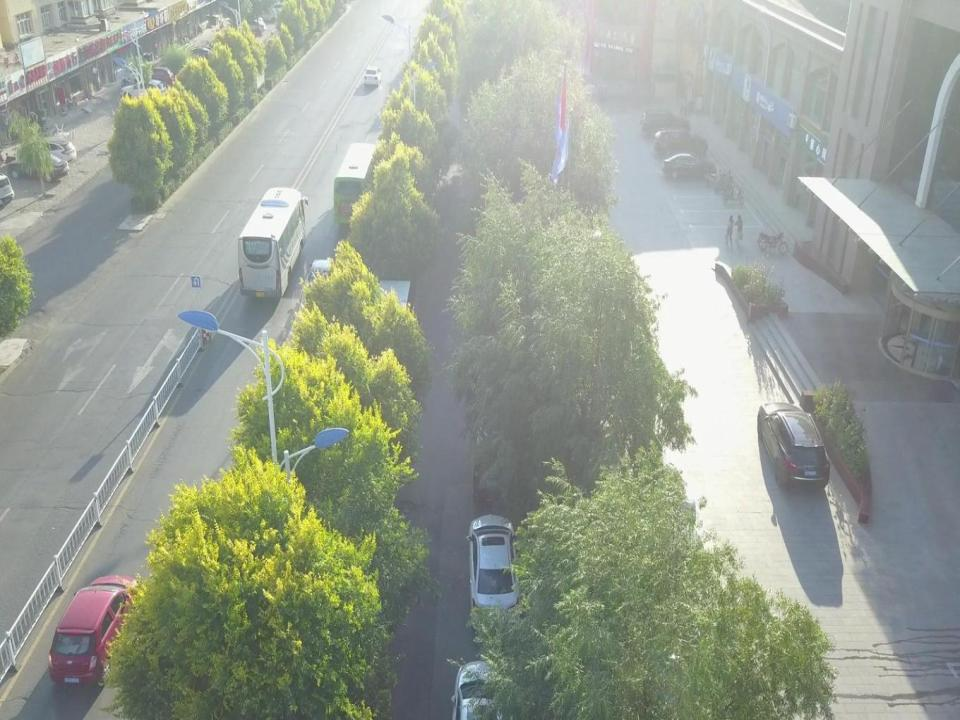bus: (238, 187, 310, 301), (332, 142, 380, 227)
car: (47, 572, 146, 691), (758, 402, 832, 496), (469, 514, 522, 625), (452, 658, 511, 720), (644, 108, 695, 138), (8, 154, 70, 178), (660, 152, 716, 178), (656, 130, 710, 156), (20, 139, 78, 161), (120, 79, 166, 100), (126, 68, 174, 88), (366, 67, 381, 84)
truck: (310, 260, 417, 328)
